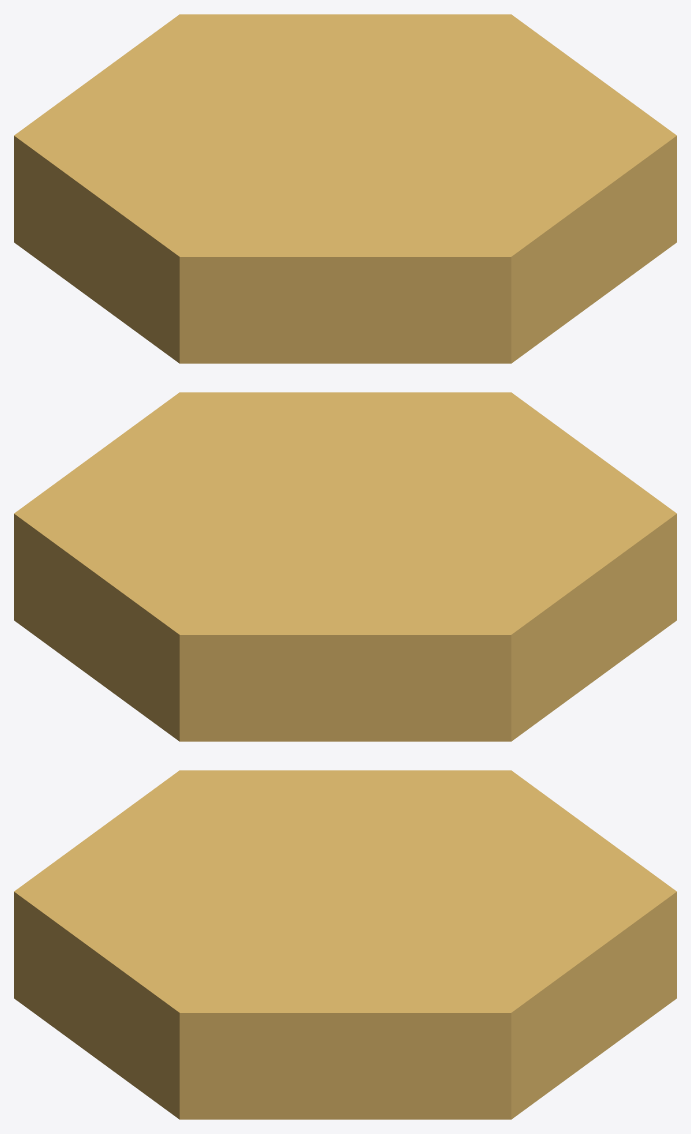
Rendered from sand.glb.
The picture shows the model from 3 angles, top to bottom: view 1: azimuth 30°, elevation 25°; view 2: azimuth 150°, elevation 25°; view 3: azimuth 270°, elevation 25°; orthographic projection.
Visible parts, largest first — view 1: send; view 2: send; view 3: send.
Part boxes in pixels (<box>): send: <box>14,14,676,363</box>; send: <box>14,392,676,741</box>; send: <box>14,770,676,1119</box>.
Size of the model in its own units: 4.78 by 0.981 by 5.52.
1 material, 1 textured.
